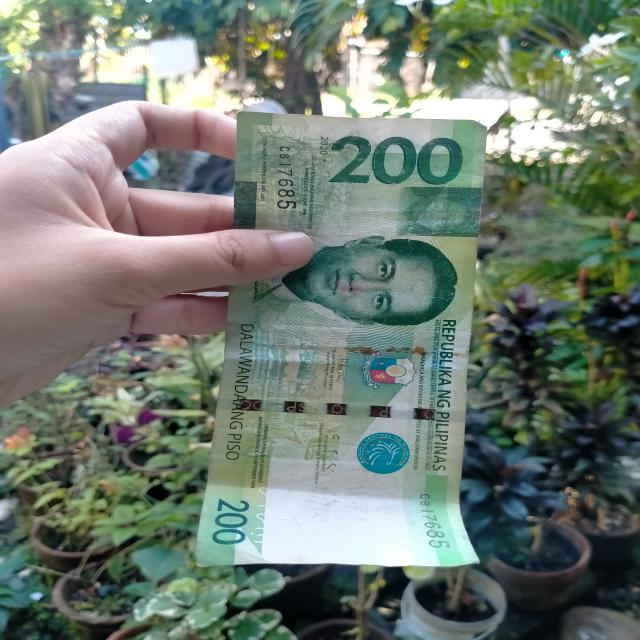concealed_value: (396, 187, 480, 238)
security_thread: (220, 396, 461, 428)
see_through_mark: (243, 476, 282, 549)
serial_number: (408, 484, 456, 554), (272, 141, 303, 215)
value: (326, 133, 466, 187)
